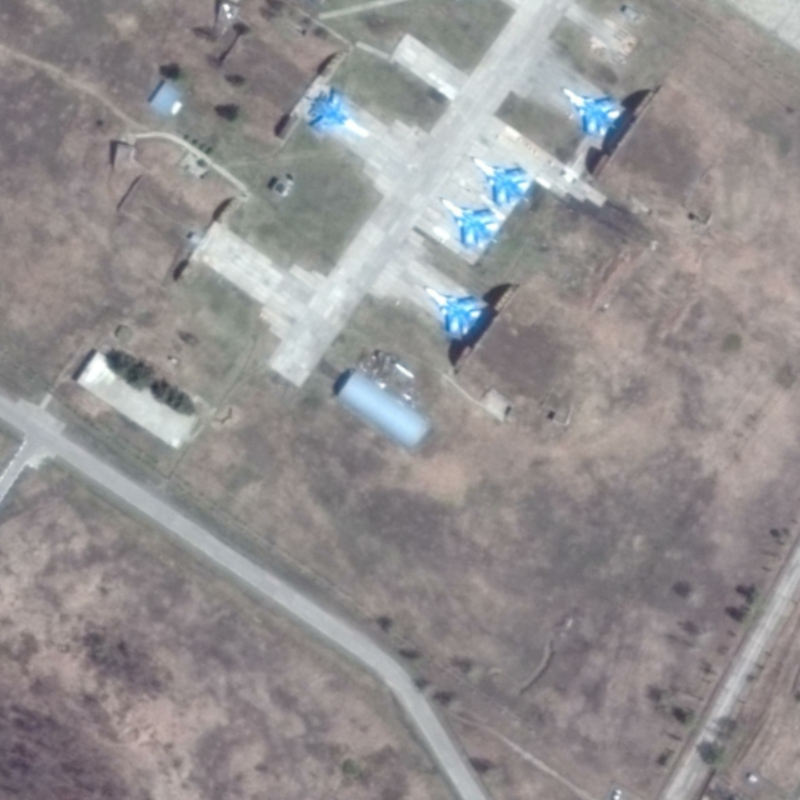A19: (300, 85, 374, 141), (420, 283, 490, 340), (558, 81, 624, 138), (438, 194, 503, 250), (470, 152, 533, 208)
